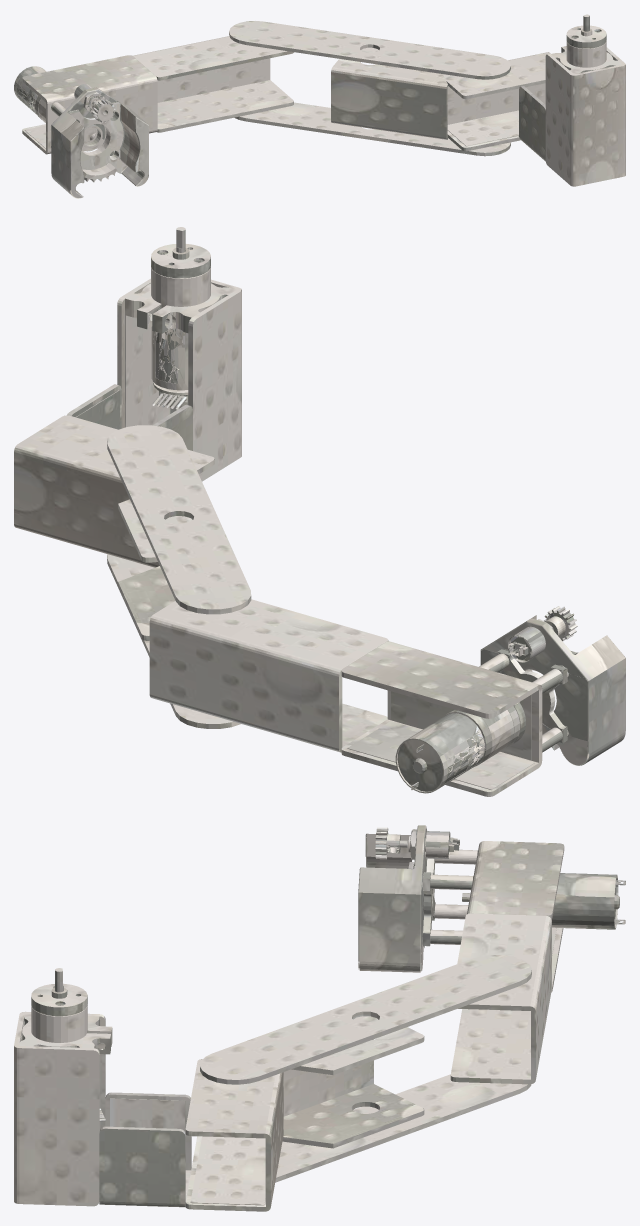
File: bogie_left.dae
The picture shows the model from 3 angles, top to bottom: view 1: azimuth 30°, elevation 25°; view 2: azimuth 150°, elevation 25°; view 3: azimuth 270°, elevation 25°; orthographic projection. The views are drawn at different scales.
Parts seen in each view (by area): view 1: bogie_left; view 2: bogie_left; view 3: bogie_left.
Boxes of the visible parts, box(x1,y1,x2,y2) form: bogie_left: box(14, 14, 625, 198); bogie_left: box(14, 227, 625, 796); bogie_left: box(14, 825, 625, 1211).
Size of the model in its own units: 0.3185 by 0.271 by 0.1142.
1 material, 1 textured.
